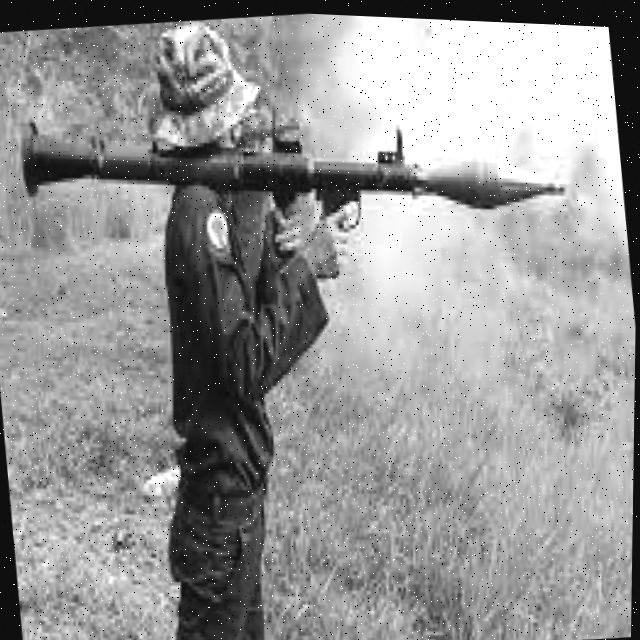rocket: (13, 62, 577, 260)
